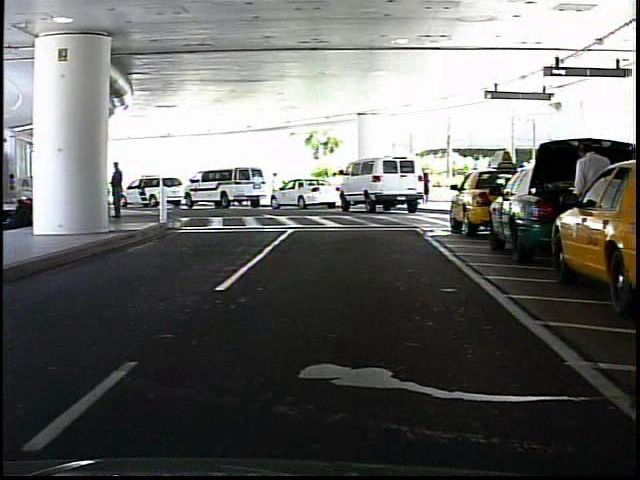person: (567, 130, 612, 274), (114, 158, 129, 224), (268, 170, 285, 205), (424, 170, 433, 206)
